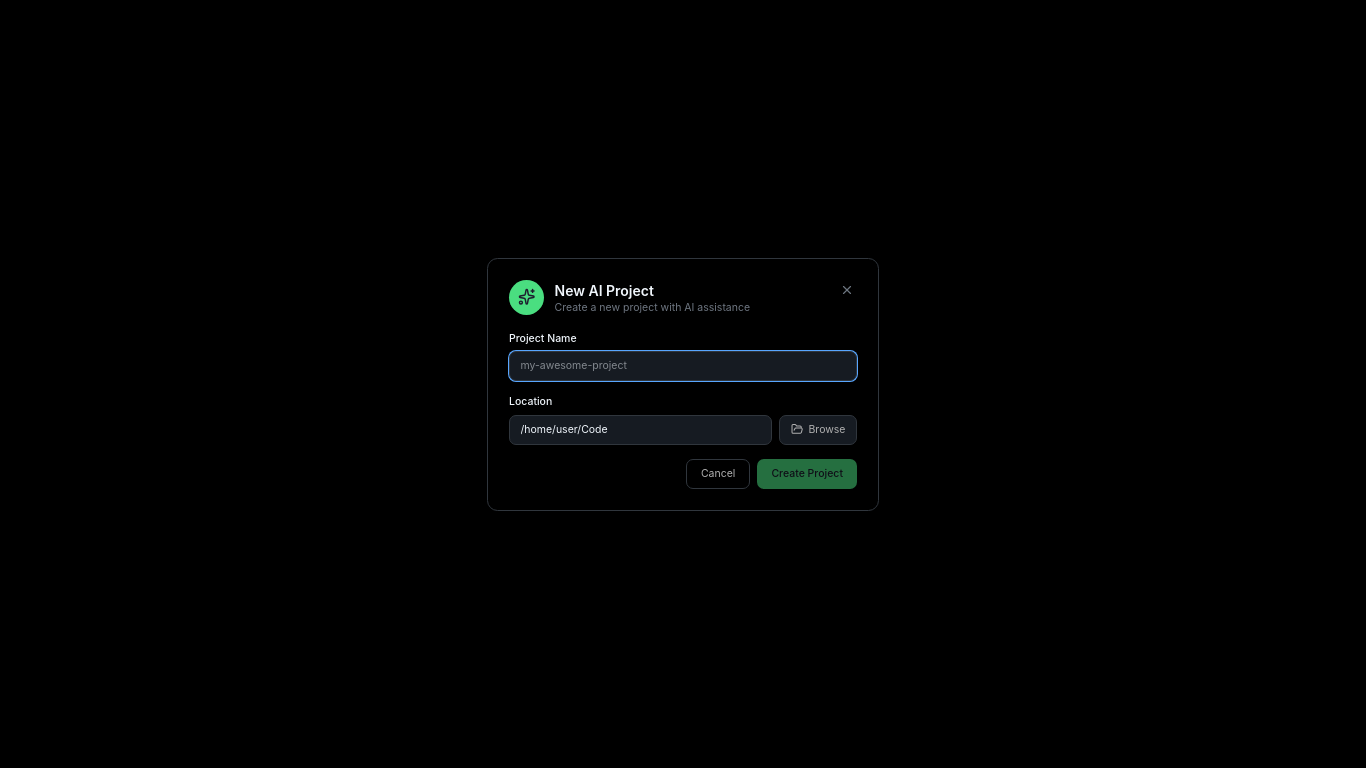
Test: NewProjectDialog › shows error when create fails
Expected: the field with placeholder "~/Code" holds "/home/user/Code", [509,414,772,444]
Type "Test" into the field with placeholder "my-awesome-project" at (683, 366), box [509,351,857,381]
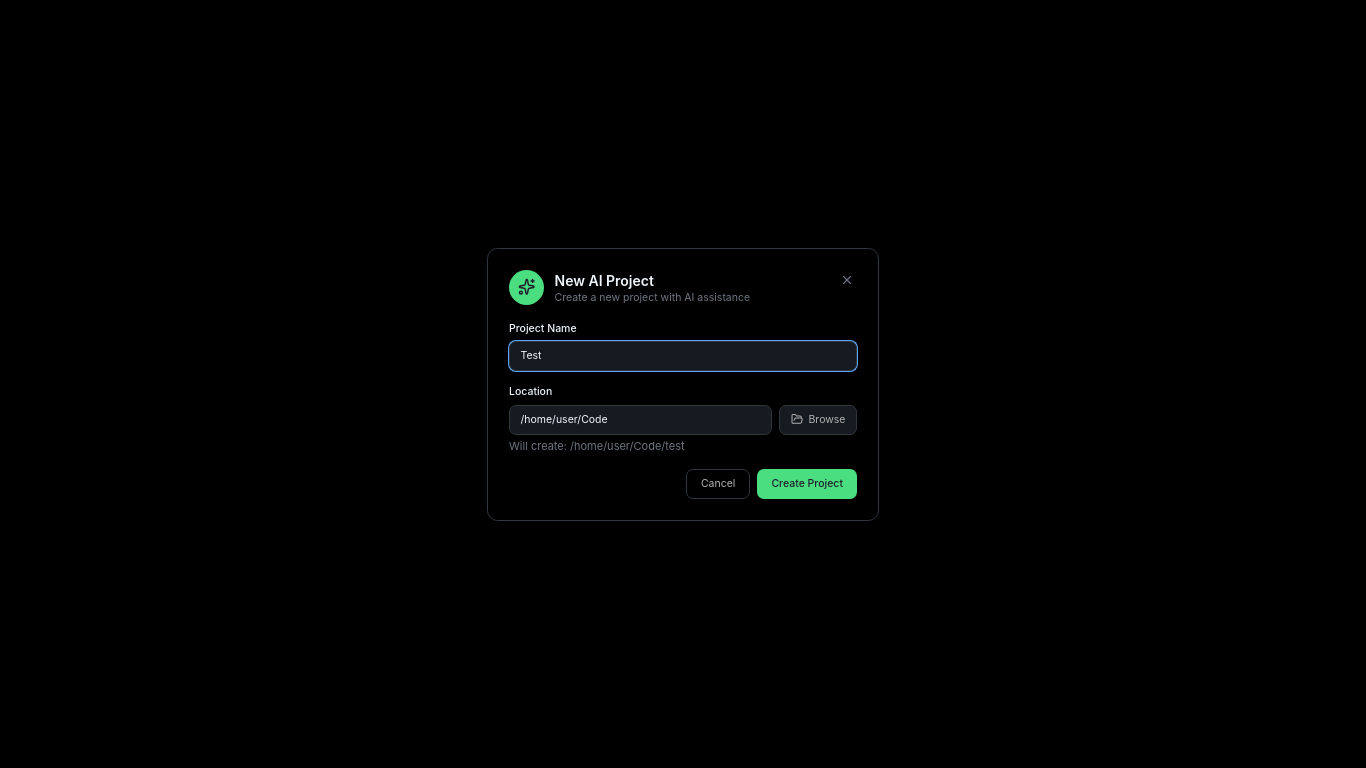
Click the button "Create Project" at (807, 484), box [757,468,857,498]
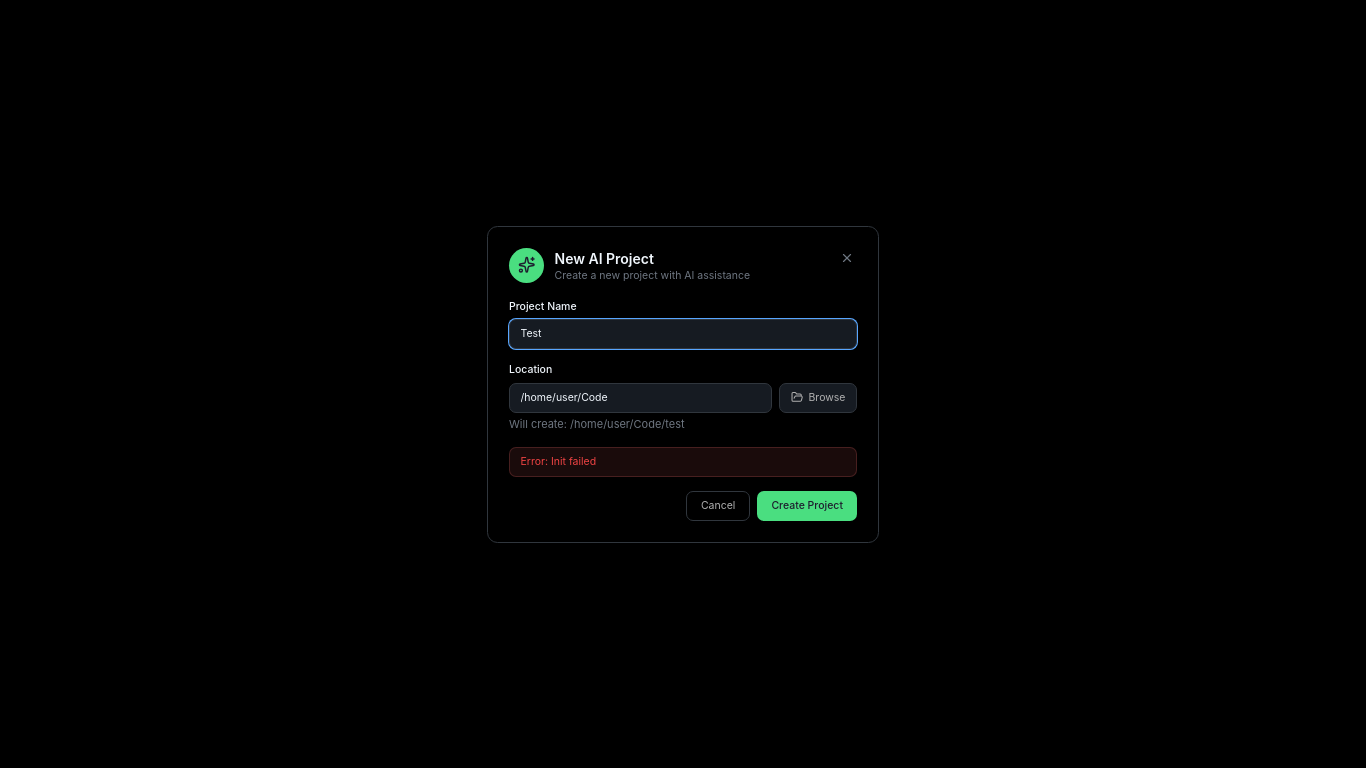
Expected: the button "Create Project" is shown, [757,490,857,520]
Expected: the text "Error: Init failed" is shown, [509,446,857,476]
